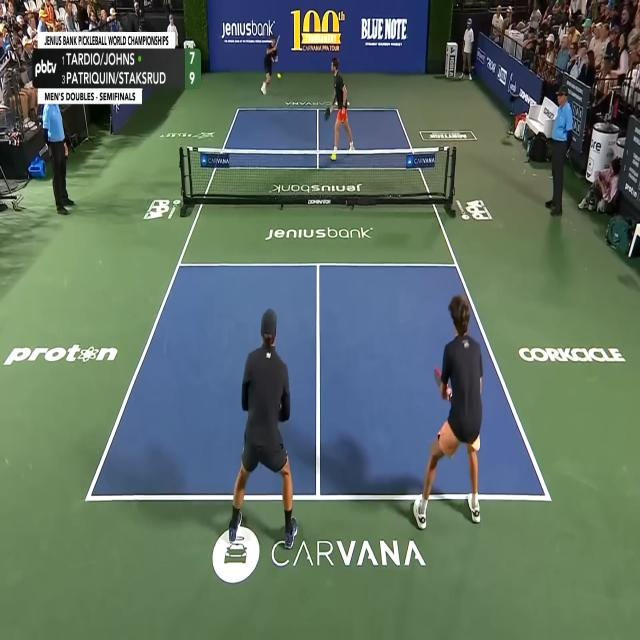ball: (277, 73, 282, 79)
